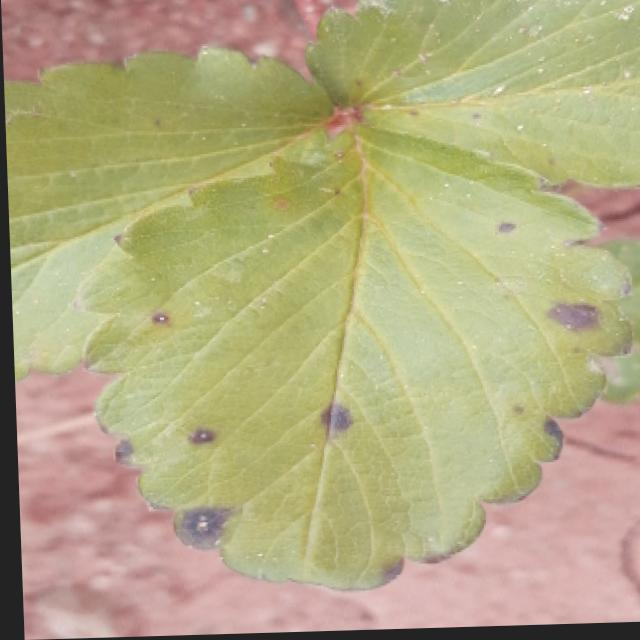Leaf Spot: (75, 124, 630, 595), (302, 0, 640, 193)
